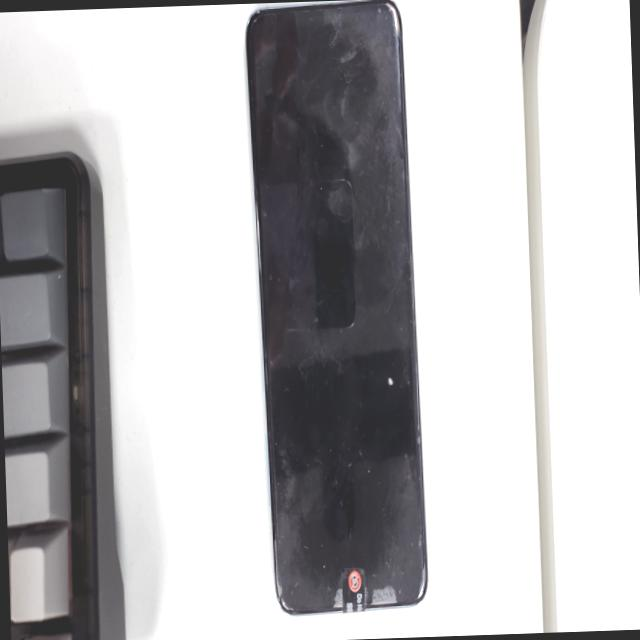phone: (244, 0, 425, 616)
sticker: (340, 566, 366, 612)
